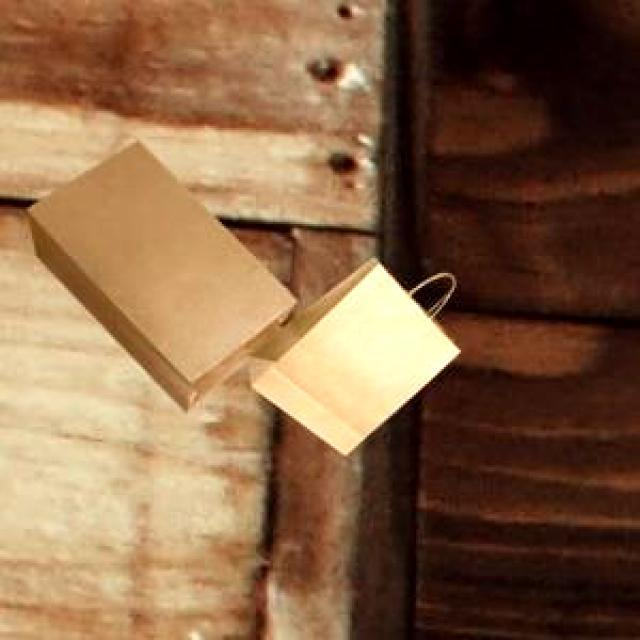Paper_Bag: (25, 138, 294, 408), (244, 254, 456, 452)
